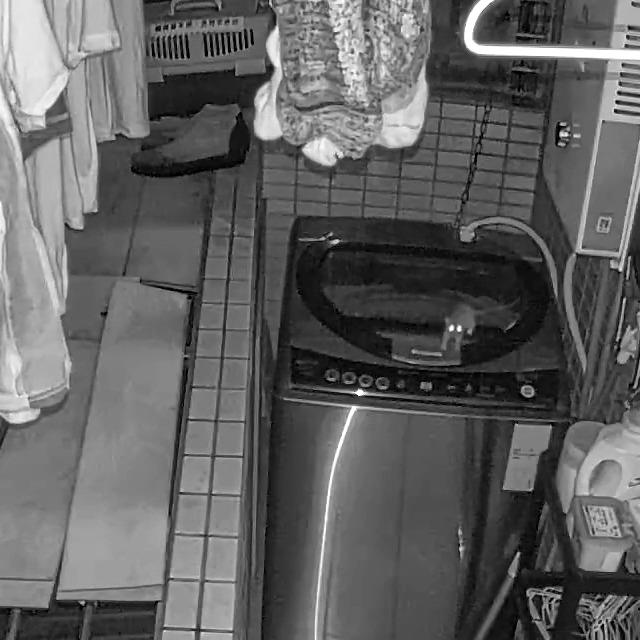rat: (440, 298, 523, 352)
